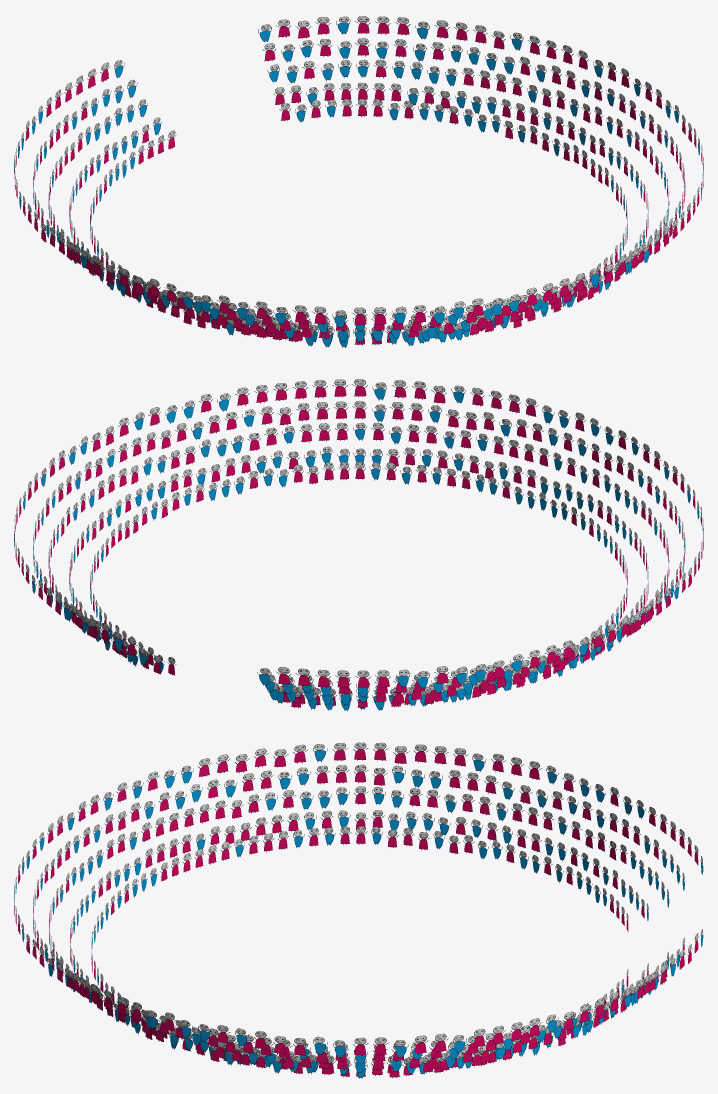
Rendered from Audience.fbx.
The picture shows the model from 3 angles, top to bottom: view 1: azimuth 30°, elevation 25°; view 2: azimuth 150°, elevation 25°; view 3: azimuth 270°, elevation 25°; orthographic projection.
Parts seen in each view (by area): view 1: Audience; view 2: Audience; view 3: Audience.
Boxes of the visible parts, x1,y1,x2,y2 form: Audience: [14, 16, 703, 347]; Audience: [14, 379, 703, 710]; Audience: [14, 742, 703, 1078].
Size of the model in its own units: 2272 by 269 by 2243.
